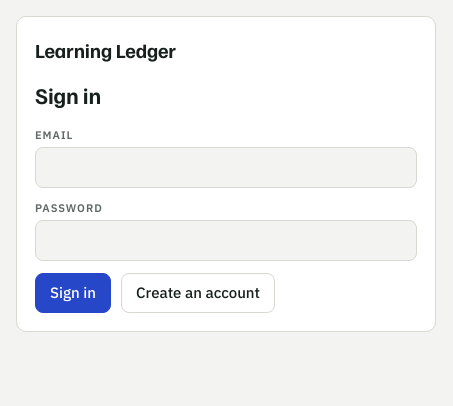
it: Accounts › shows the server's message when the password is wrong
Type "me@example.com" into the field labelled "Email" at {"x": 226, "y": 168}, box top-left (35, 147), bottom-right (417, 188)
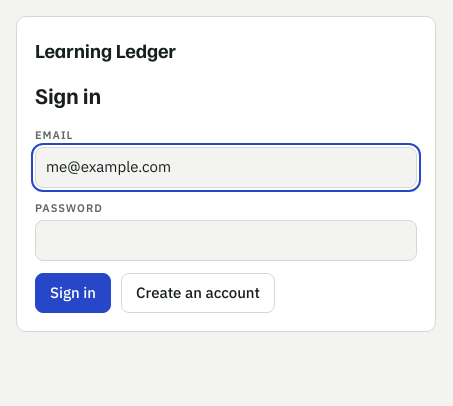
Type "not the password" into the password field labelled "Password" at {"x": 226, "y": 241}, box top-left (35, 220), bottom-right (417, 261)
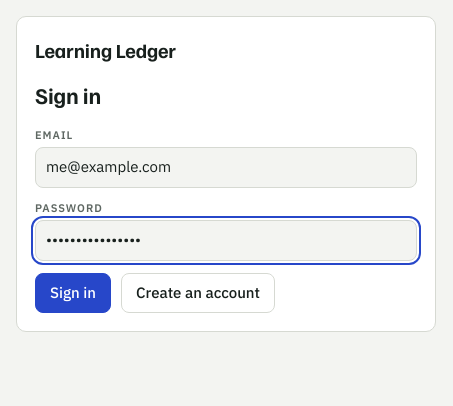
Click the button "Sign in" at {"x": 73, "y": 293}, box top-left (35, 273), bottom-right (111, 313)
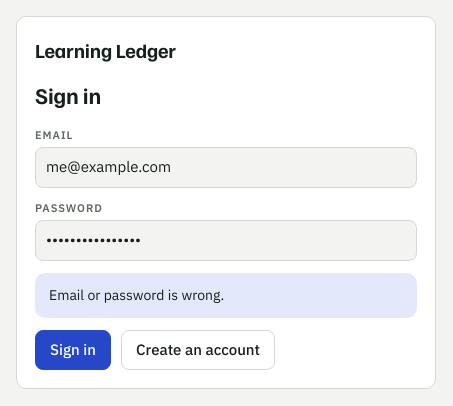
Now the message reads "Email or password is wrong.", box top-left (49, 286), bottom-right (224, 304)
